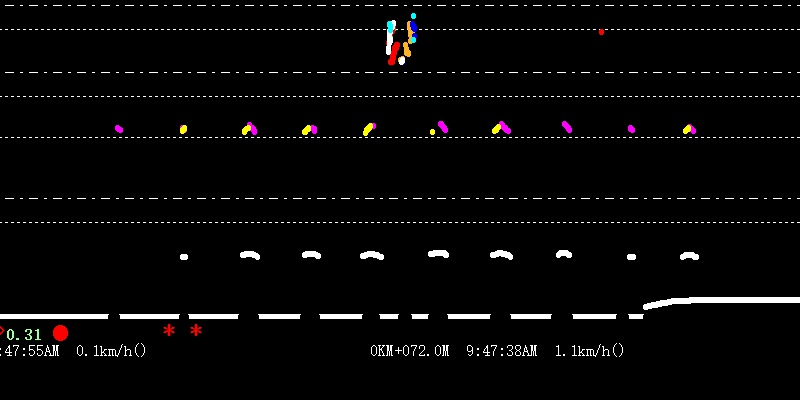J: (383, 2, 417, 65)
circle: (50, 322, 70, 343)
star: (188, 320, 205, 340), (160, 324, 178, 338)
y_p: (232, 115, 585, 273)
